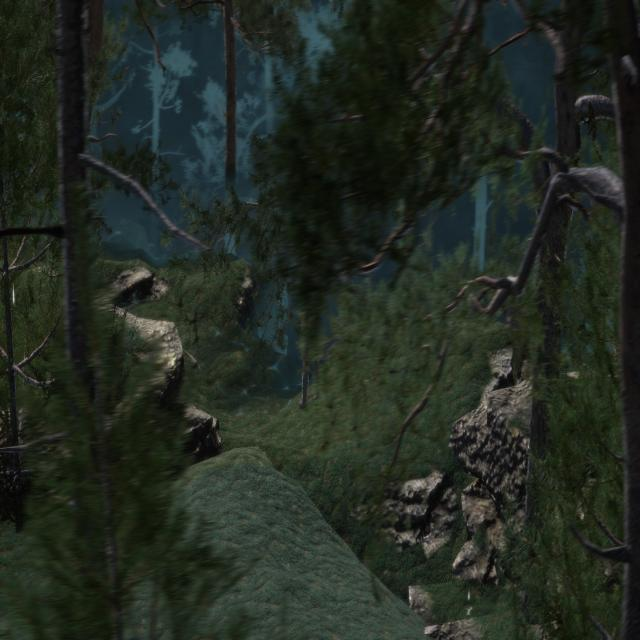Human: (295, 270, 323, 412)
